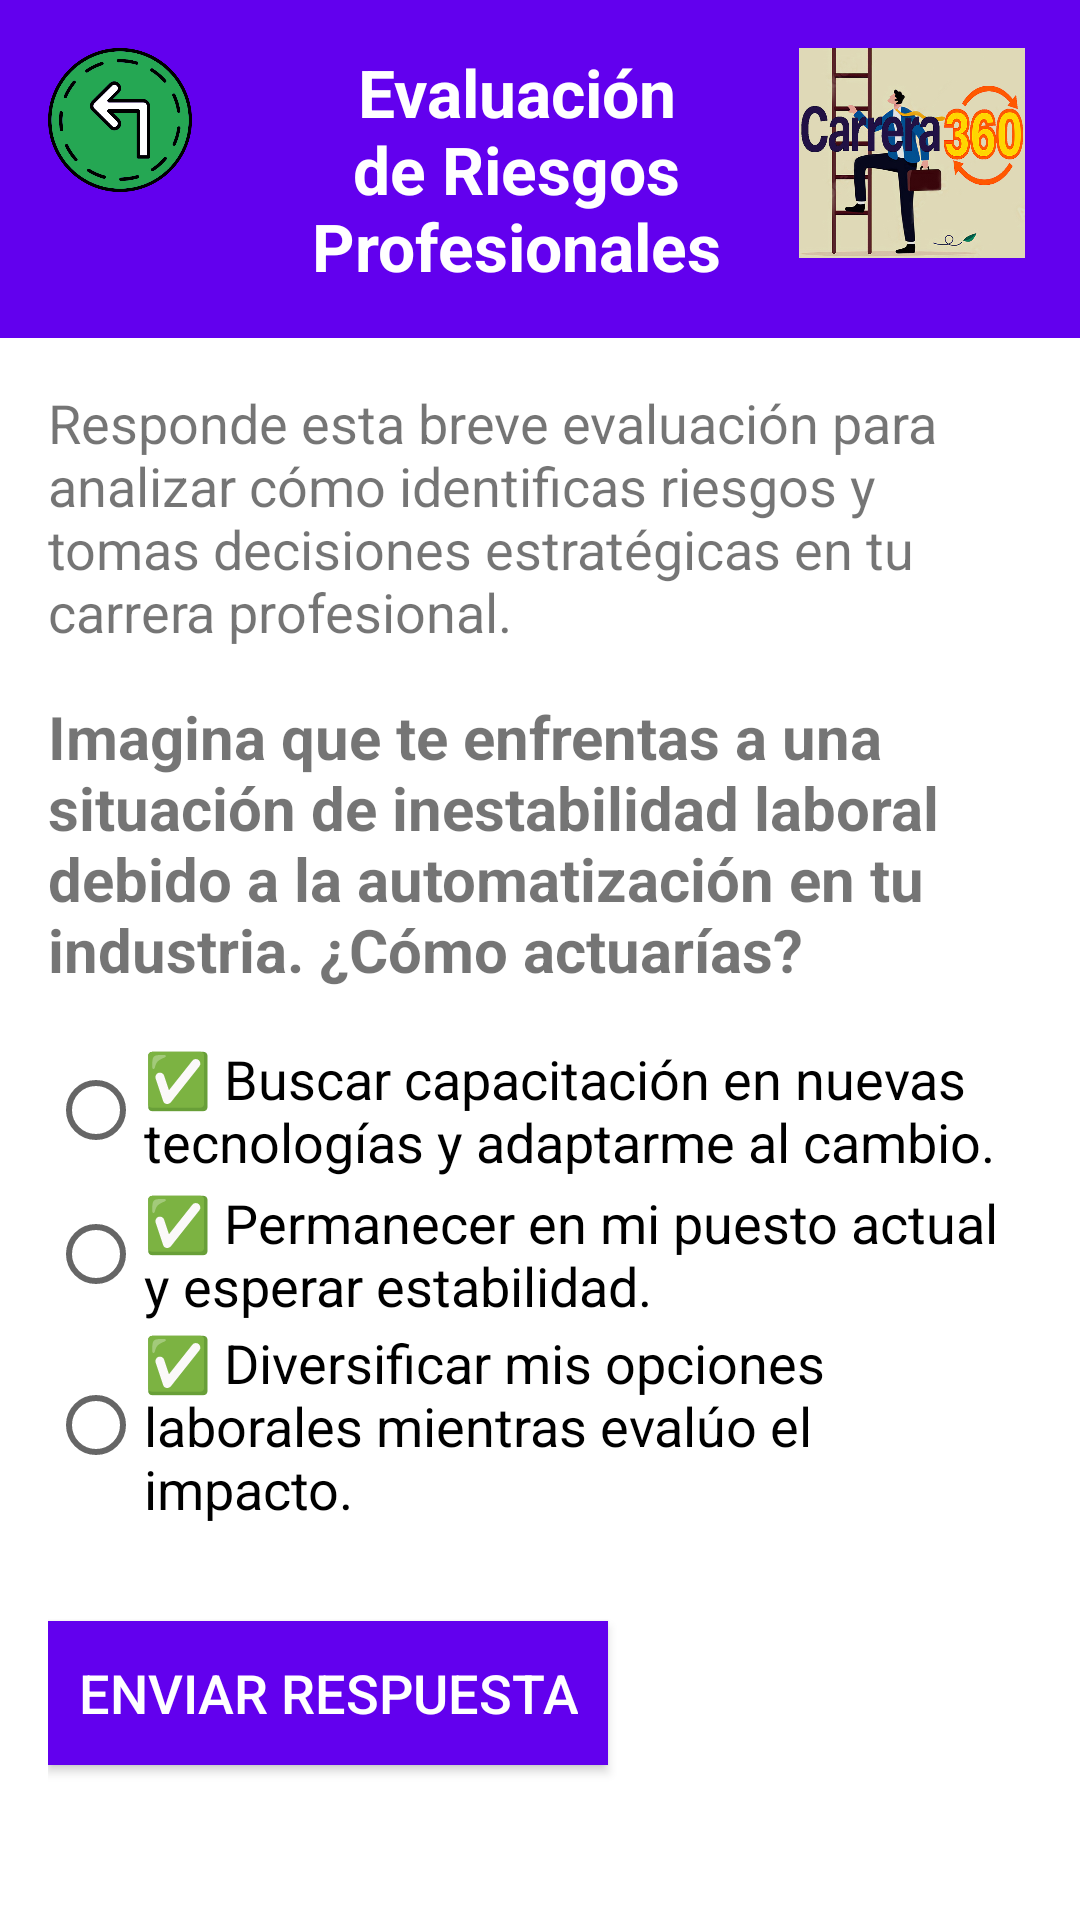

Icons on this 1080 × 1920 Android screen, each with its box as (x1, y1, x2, y2):
Regresar a Inicio: (48, 48, 192, 192)
